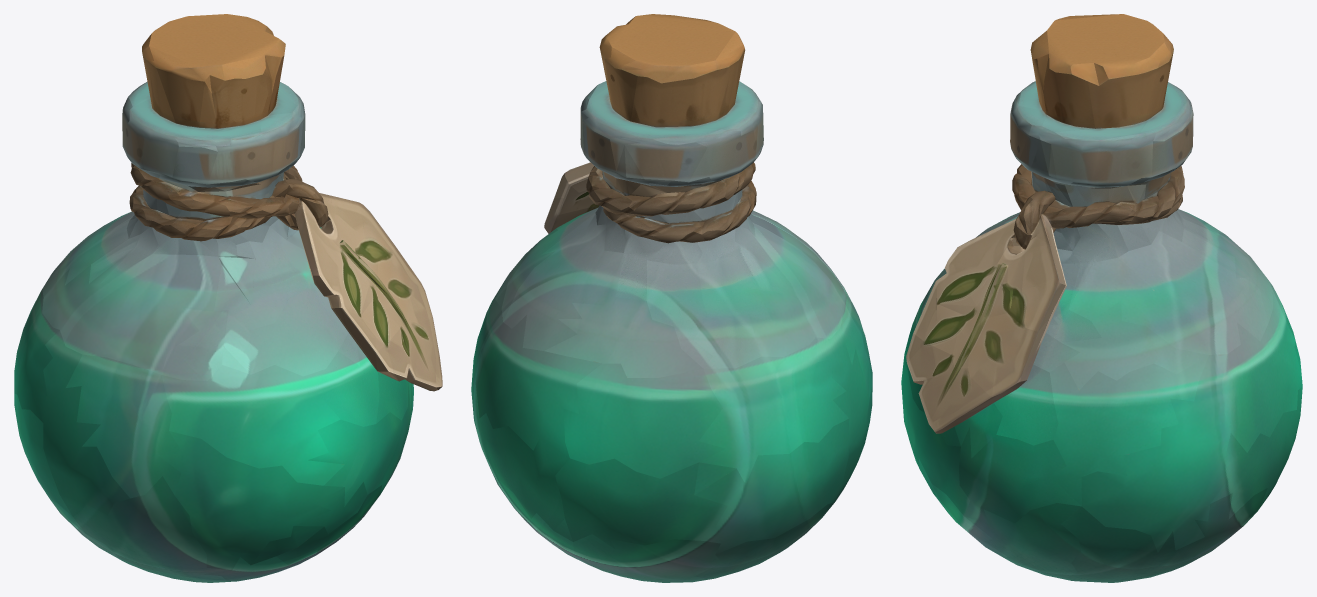
Rendered from potion_small.glb.
3 views of the same model, side by side, from view 1: azimuth 30°, elevation 25°; view 2: azimuth 150°, elevation 25°; view 3: azimuth 270°, elevation 25° (orthographic).
Visible parts, largest first — view 1: Mesh_0; view 2: Mesh_0; view 3: Mesh_0.
Part boxes in pixels (x1,y1,x2,y2): Mesh_0: (14,14,442,582); Mesh_0: (471,14,872,582); Mesh_0: (901,14,1302,582).
Bounding box in the file's own units: 0.2225 × 0.32 × 0.2225.
Materials: 1 (1 with a texture image).
